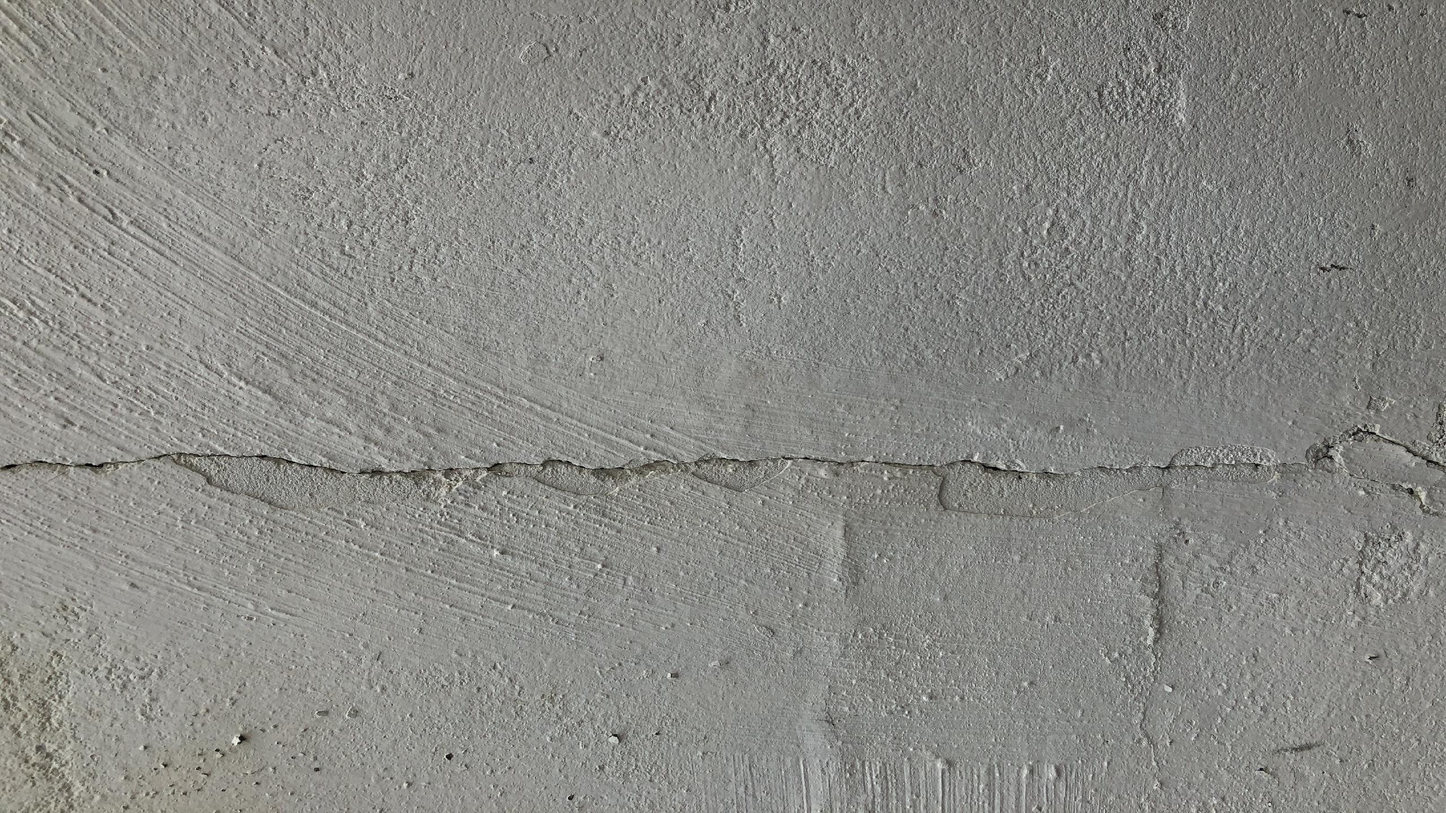crack: (0, 428, 1445, 517)
